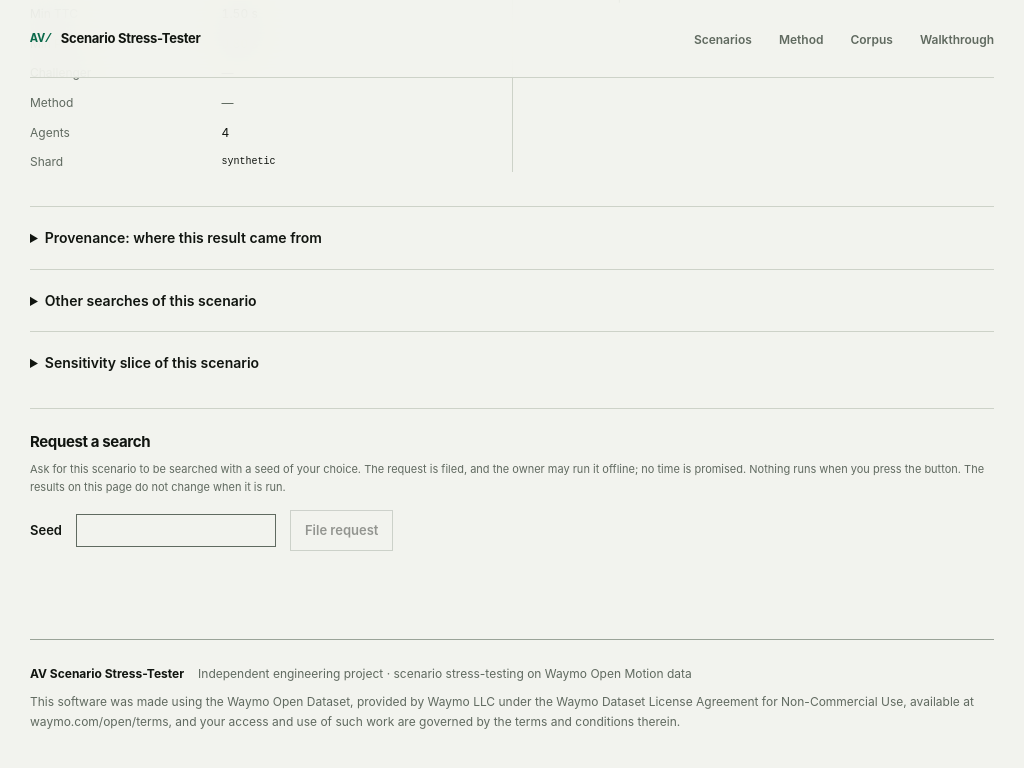
Test: with the switch on › refuses the seed -1 in the page, and sends nothing
(page scrolled)
Type "-1" into the field labelled "Seed". click: x=176, y=530
box: [76,514,276,546]
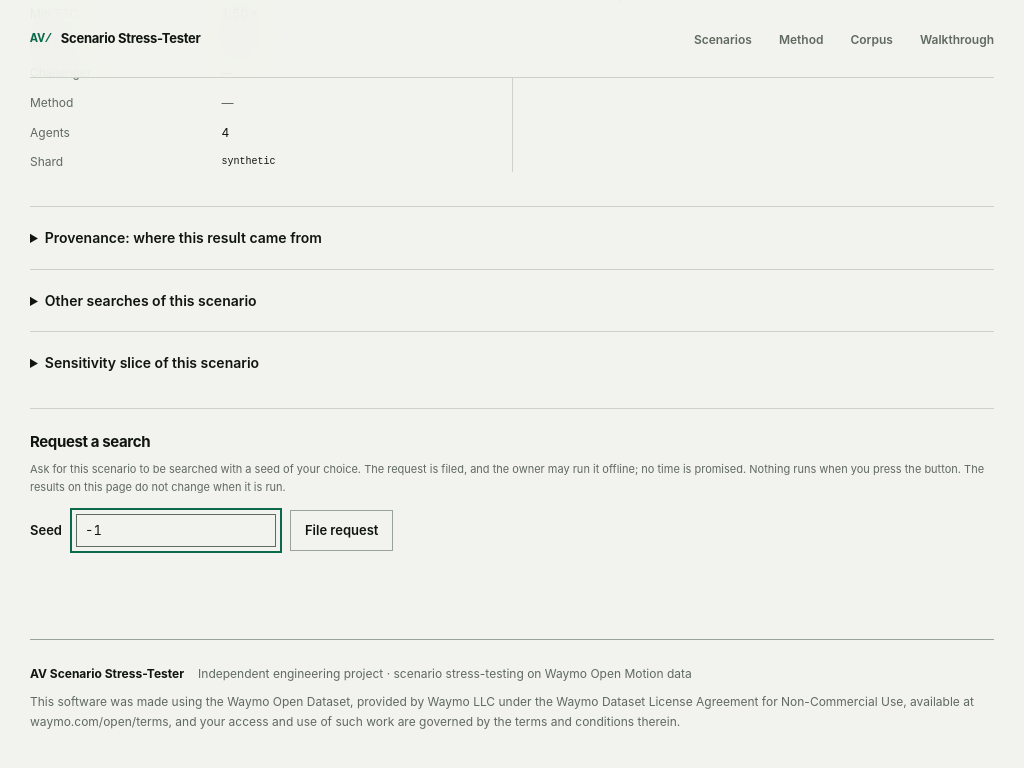
Click the button "File request". click: x=342, y=530
box: [290,510,394,550]
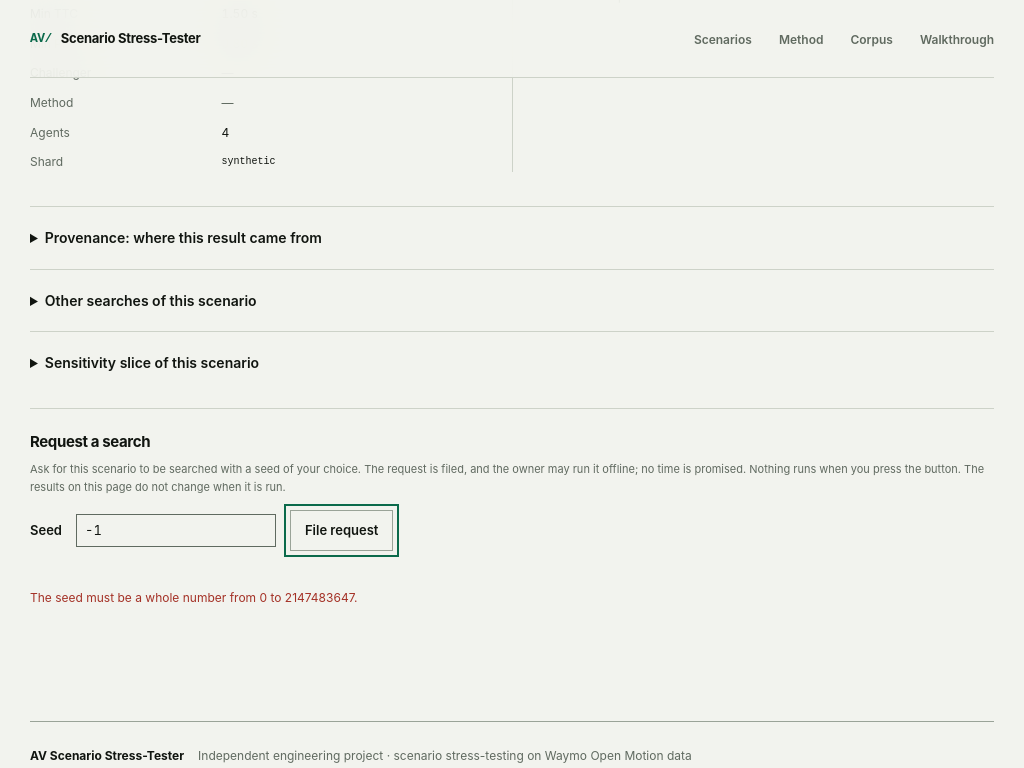
Now the message reads "The seed must be a whole number from 0 to 2147483647.", box [30,590,357,605]
